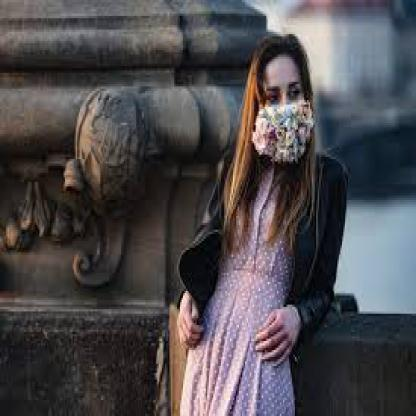Wearing_Mask: (252, 48, 314, 173)
